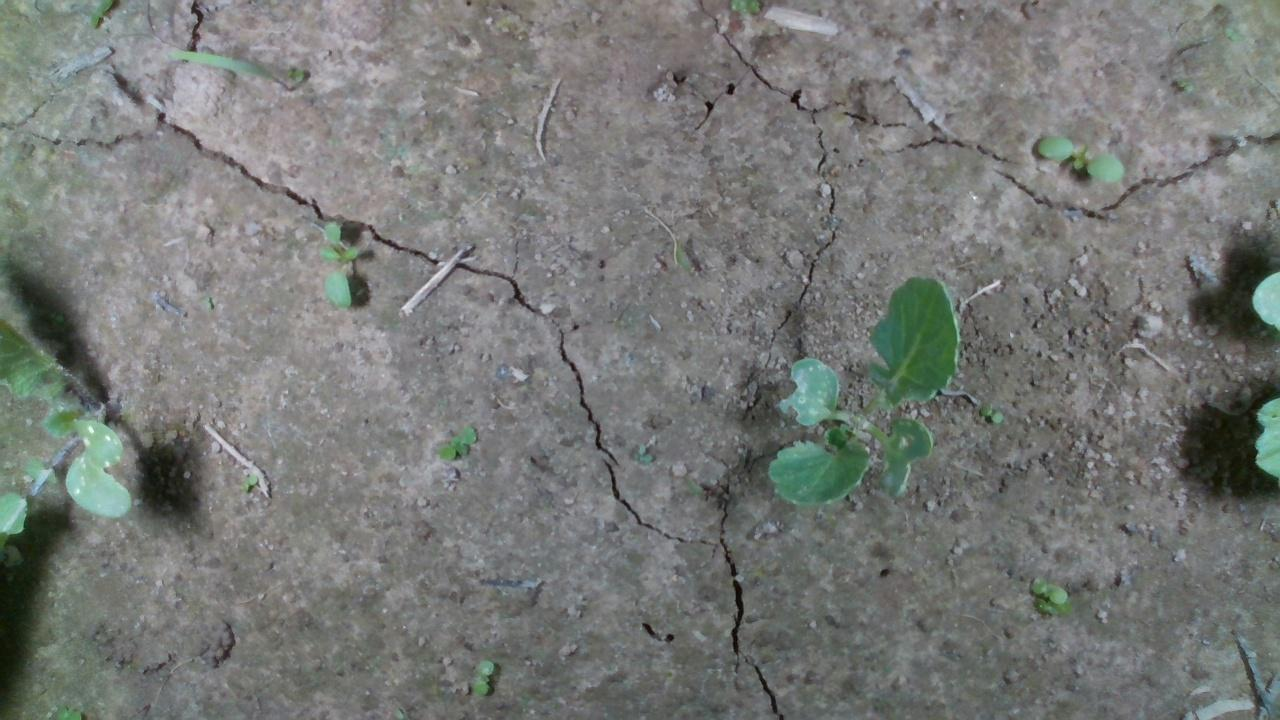weed: (1034, 132, 1126, 183), (316, 218, 360, 309), (436, 424, 479, 462), (468, 656, 494, 697), (977, 403, 1003, 423), (239, 473, 257, 492)
